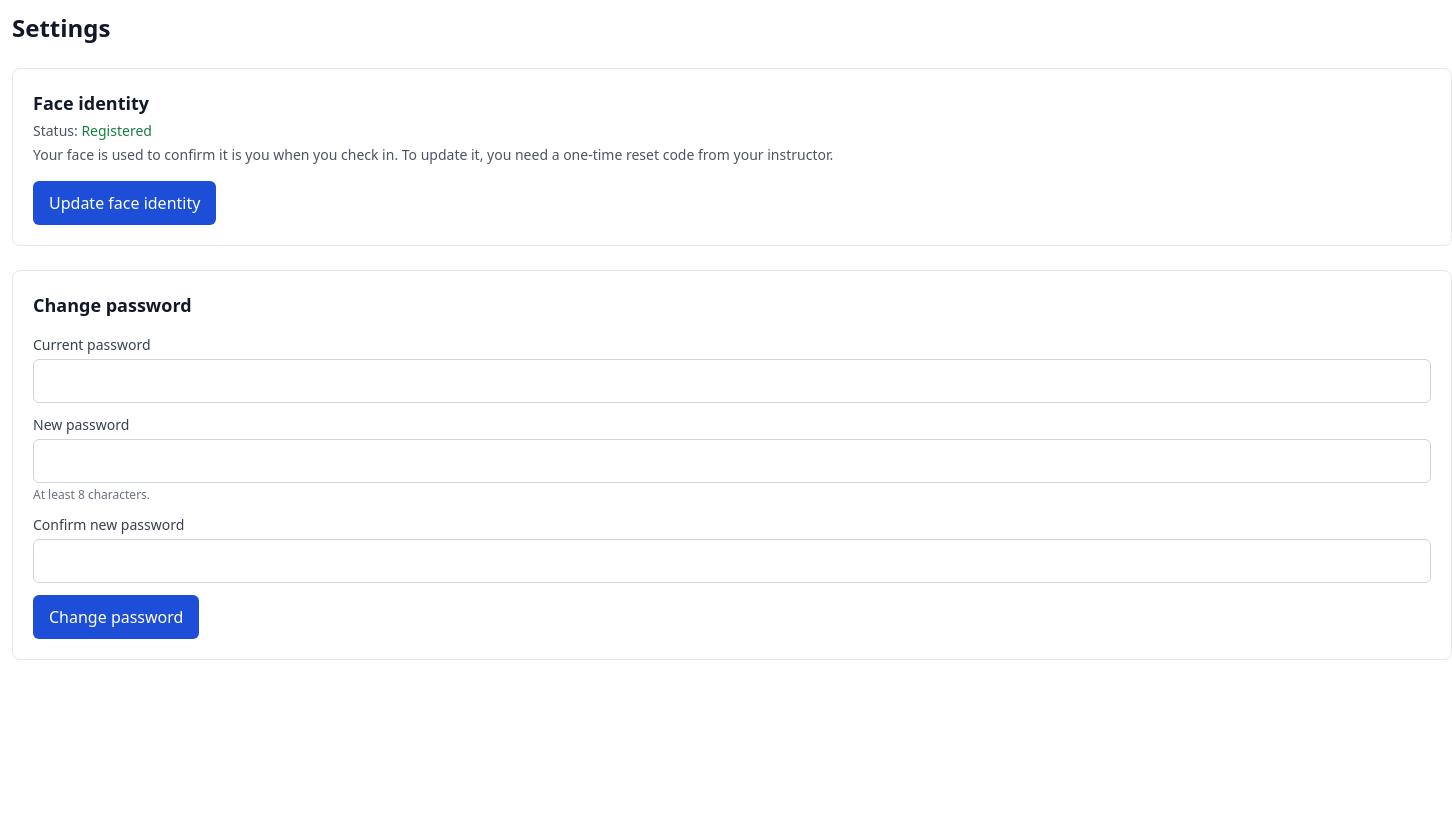
Test: Settings face identity update with an instructor reset code › a failed check (0) stays on the code step with its message
Click the button "Update face identity" at (125, 203), box [33,181,216,225]
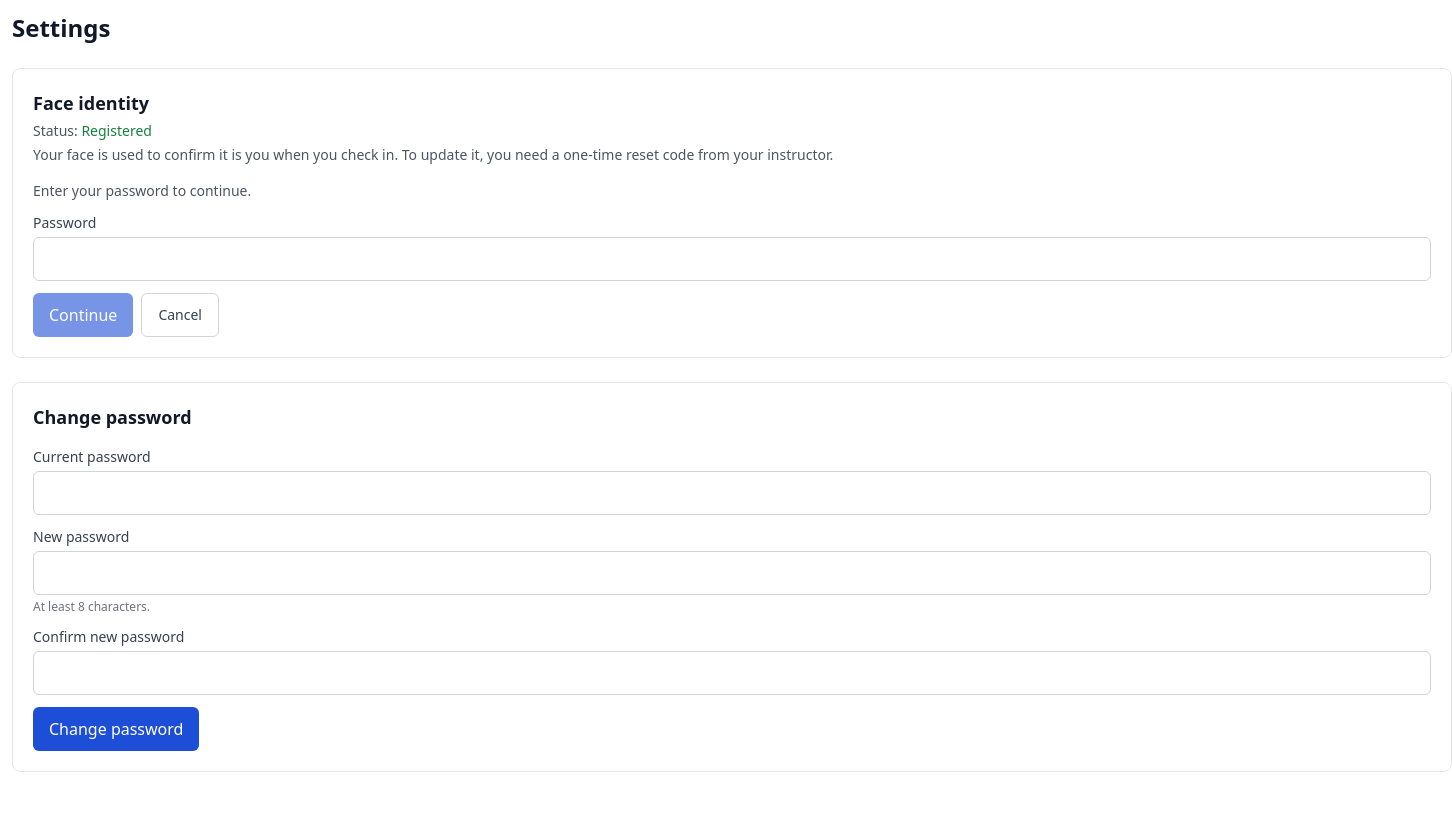
Type "right" into the password field labelled "Password" at (732, 259), box [33,237,1431,281]
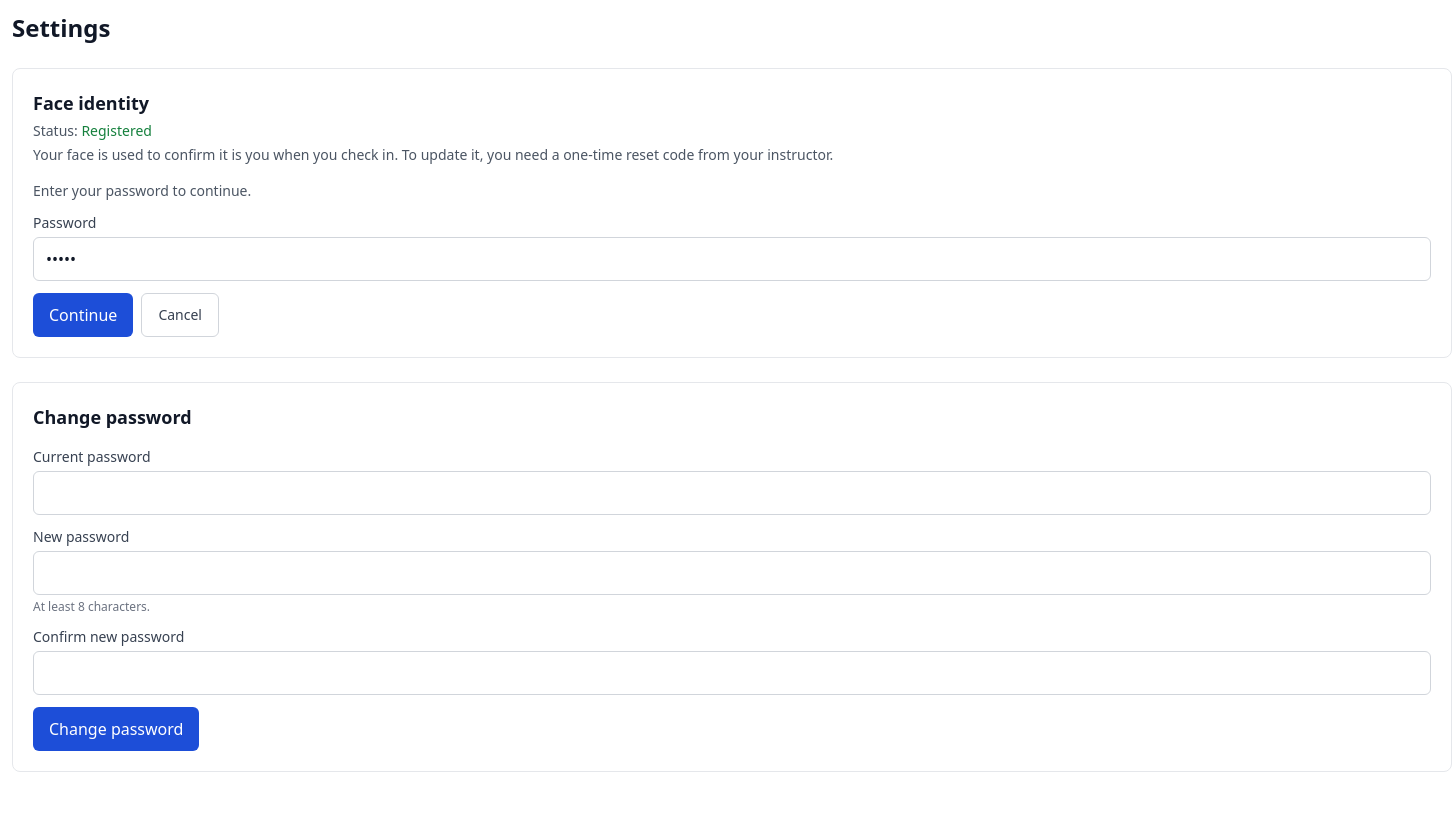
Click the button "Continue" at (83, 315), box [33,293,133,337]
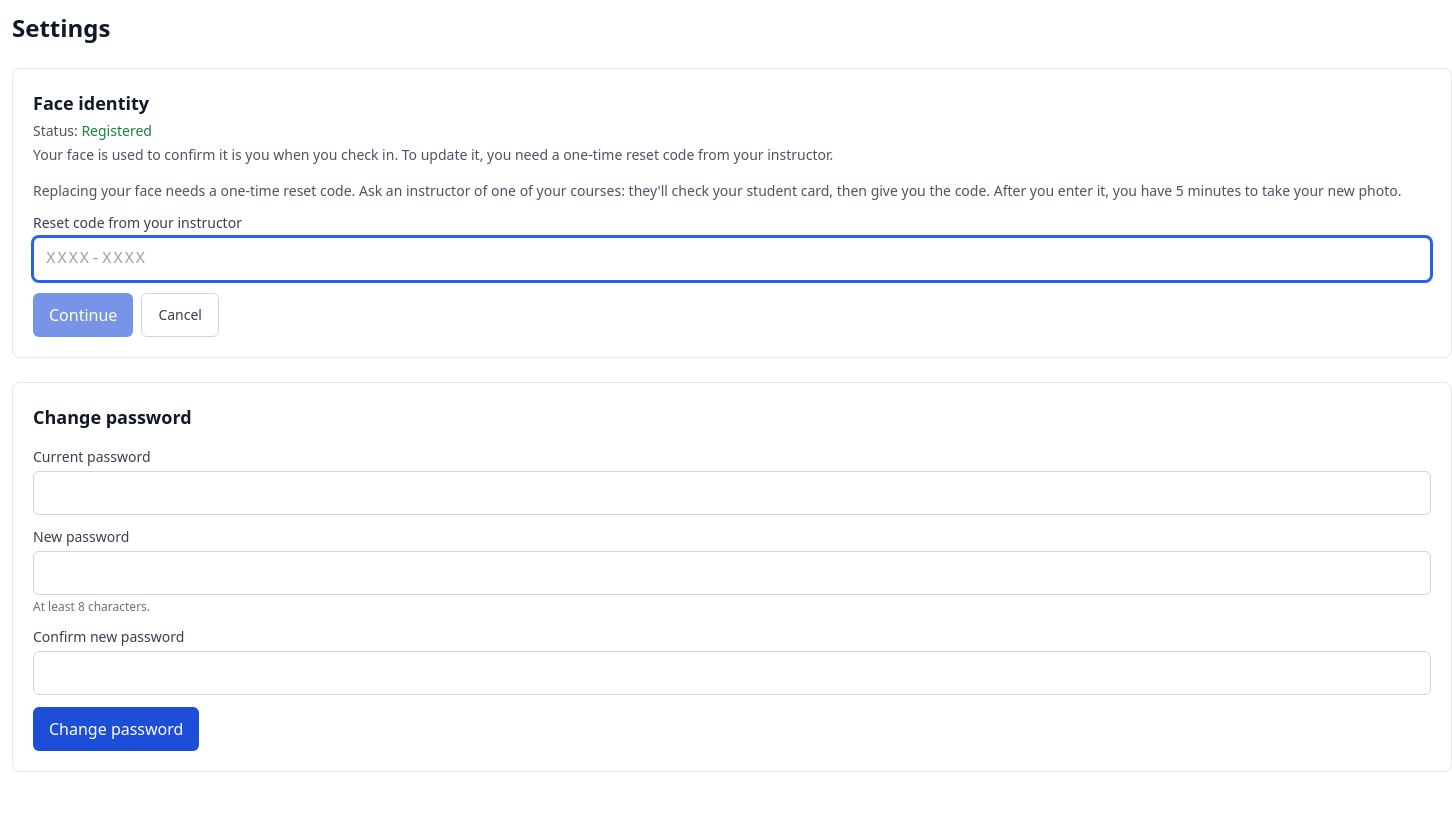
Type "K7QM4XPA" into the field labelled "Reset code from your instructor" at (732, 259), box [33,237,1431,281]
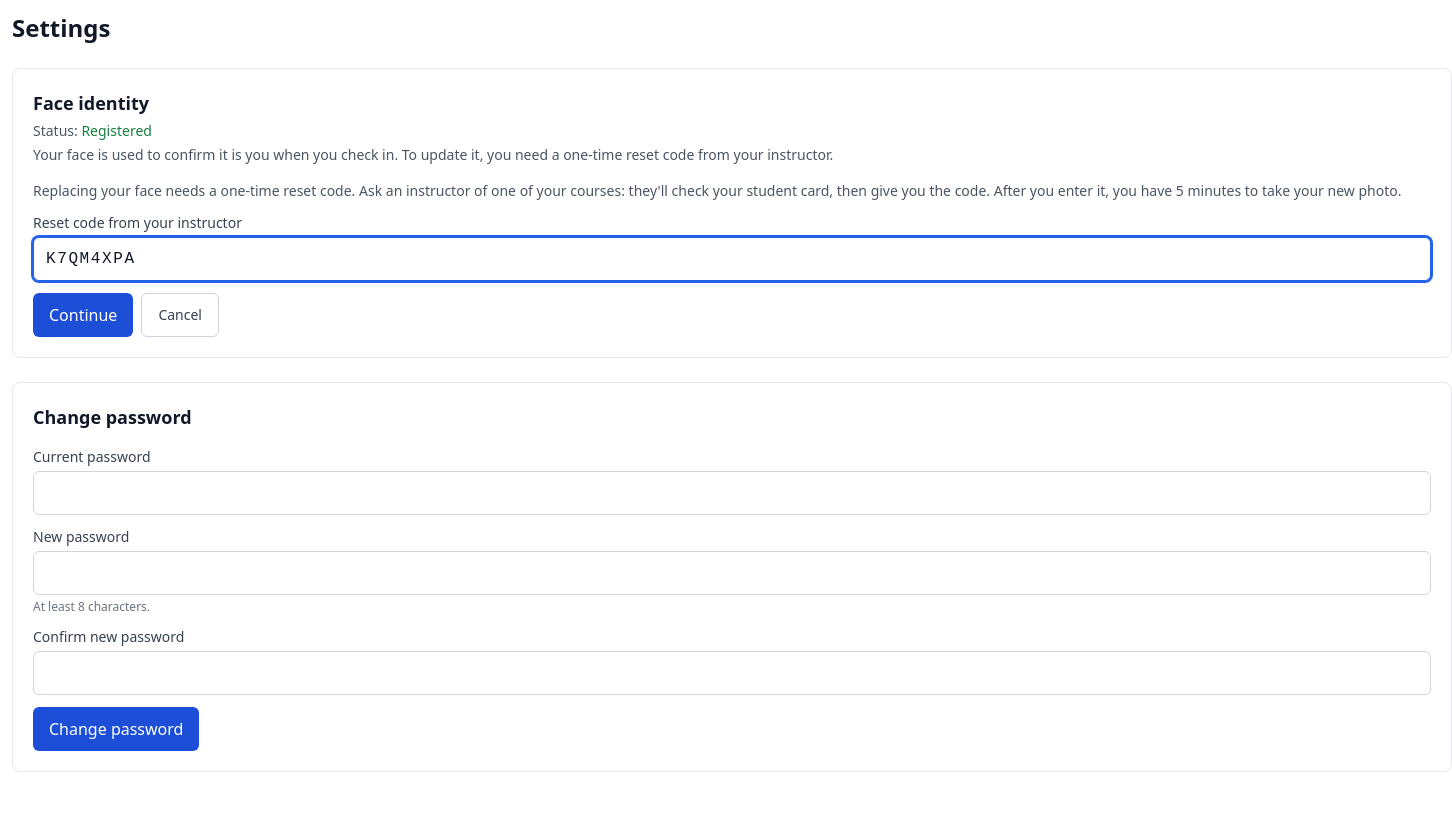
Click the button "Continue" at (83, 315), box [33,293,133,337]
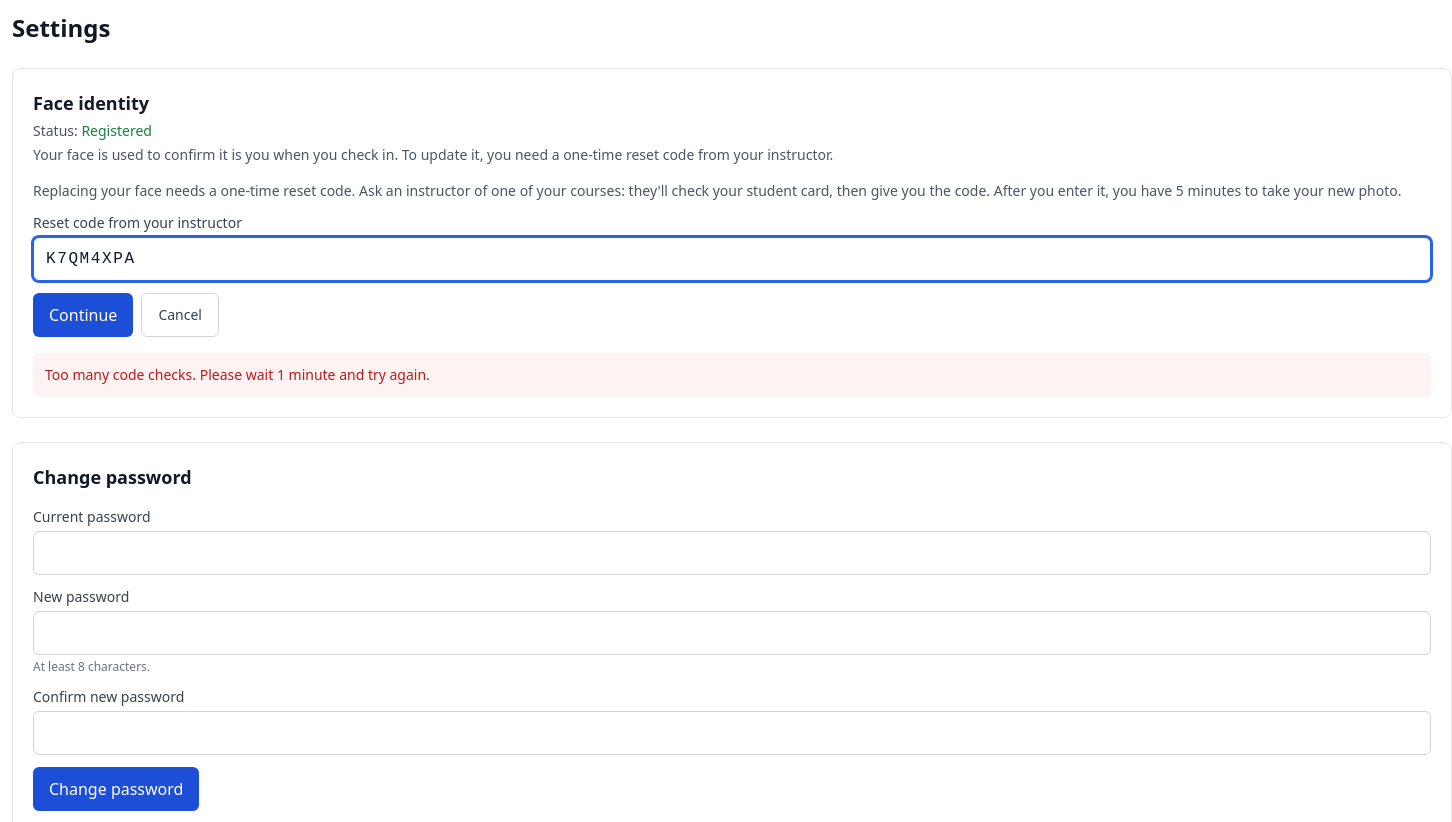
Now the message shows "Too many code checks. Please wait 1 minute", box [45,365,430,384]
